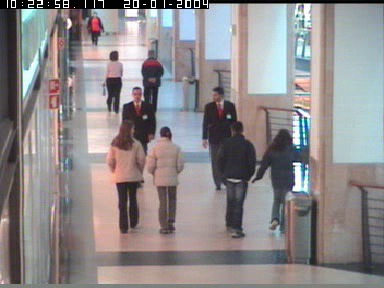person: (251, 128, 301, 232), (216, 121, 253, 239), (107, 119, 145, 233), (148, 127, 185, 233), (201, 87, 237, 190), (122, 87, 156, 155), (102, 50, 124, 112), (139, 51, 162, 109), (86, 11, 104, 43), (67, 16, 73, 53)
